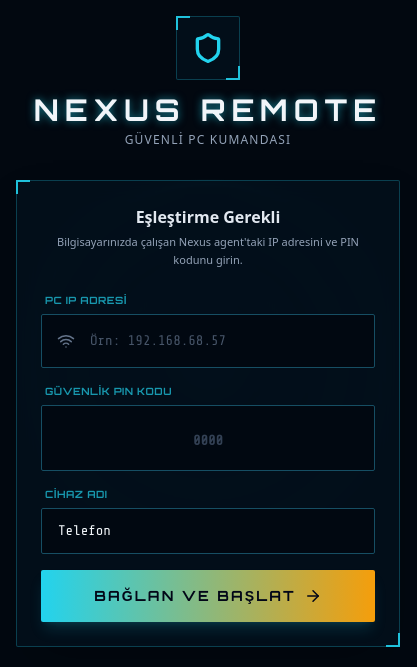
ConnectScreen › validates that the PIN has 4 digits before pairing
This screenshot has width=417, height=667.
Type "192.168.1.5" into the field with placeholder "Örn: 192.168.68.57" at (208, 341), box [41, 314, 375, 368]
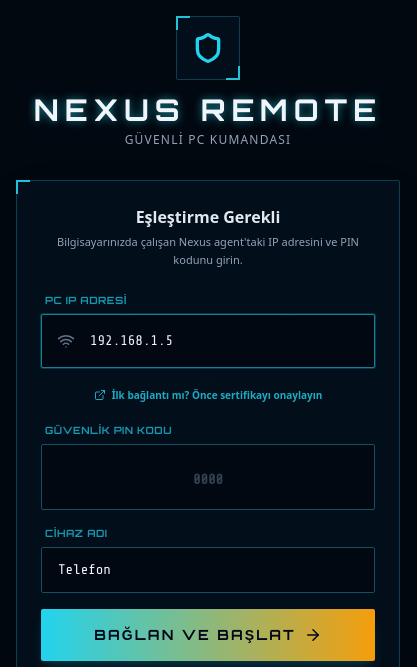
Type "12" into the field with placeholder "0000" at (208, 477), box [41, 444, 375, 510]
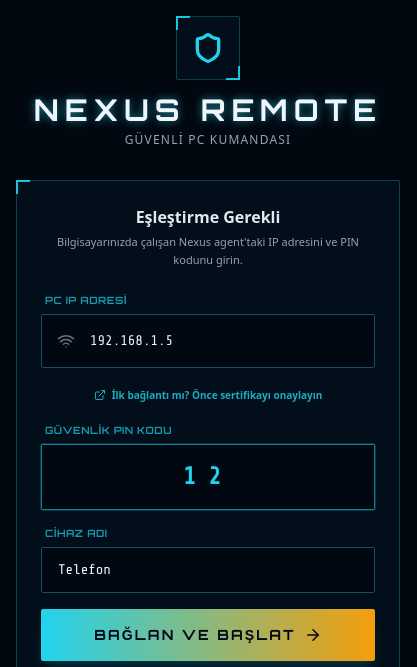
Click the button "Bağlan ve Başlat" at (208, 635), box [41, 609, 375, 661]
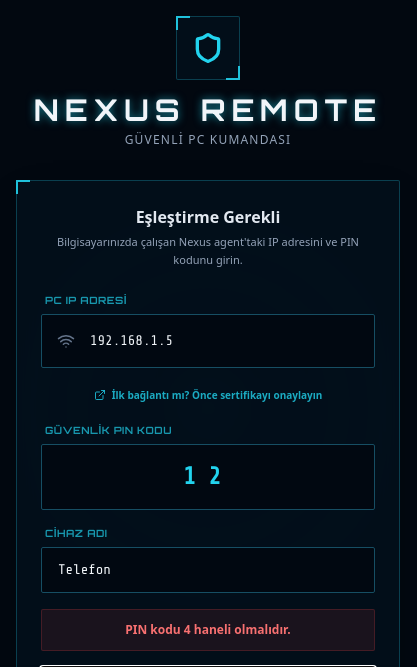
Expected: the text "PIN kodu 4 haneli olmalıdır." is shown, [41, 609, 375, 651]
